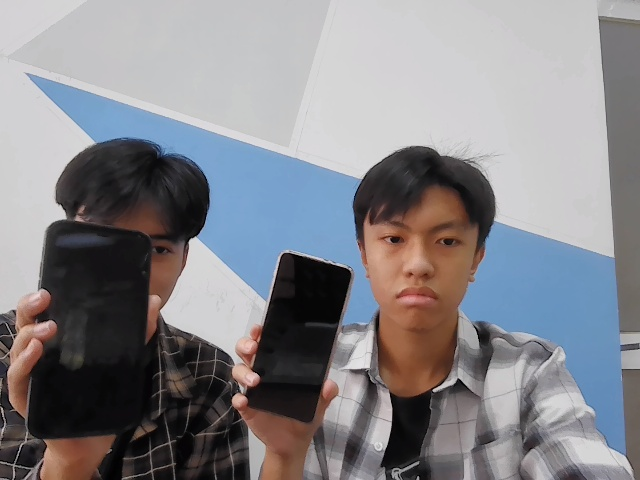human: (356, 152, 489, 323)
phone: (32, 211, 152, 440), (245, 235, 351, 431)
